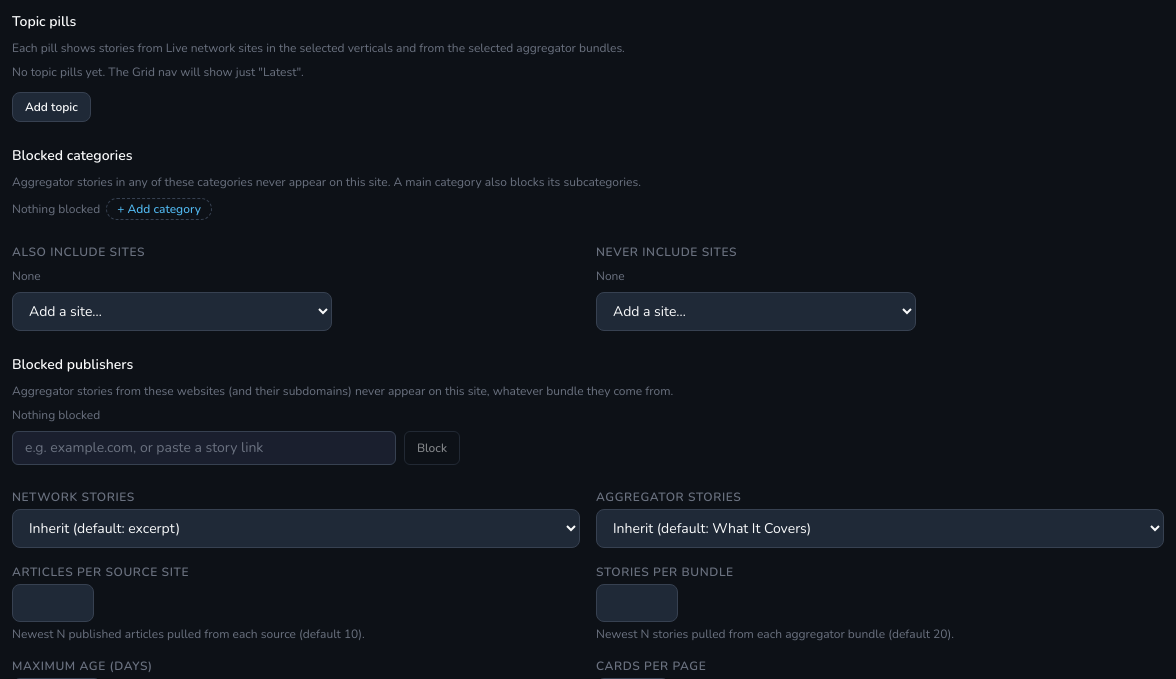
Test: GridSettingsForm — blocked publishers › rejects text that isn't a domain, with a message
Type "not a site" into the field named "Block a publisher" at (204, 448), box [12,431,396,465]
Then press Enter
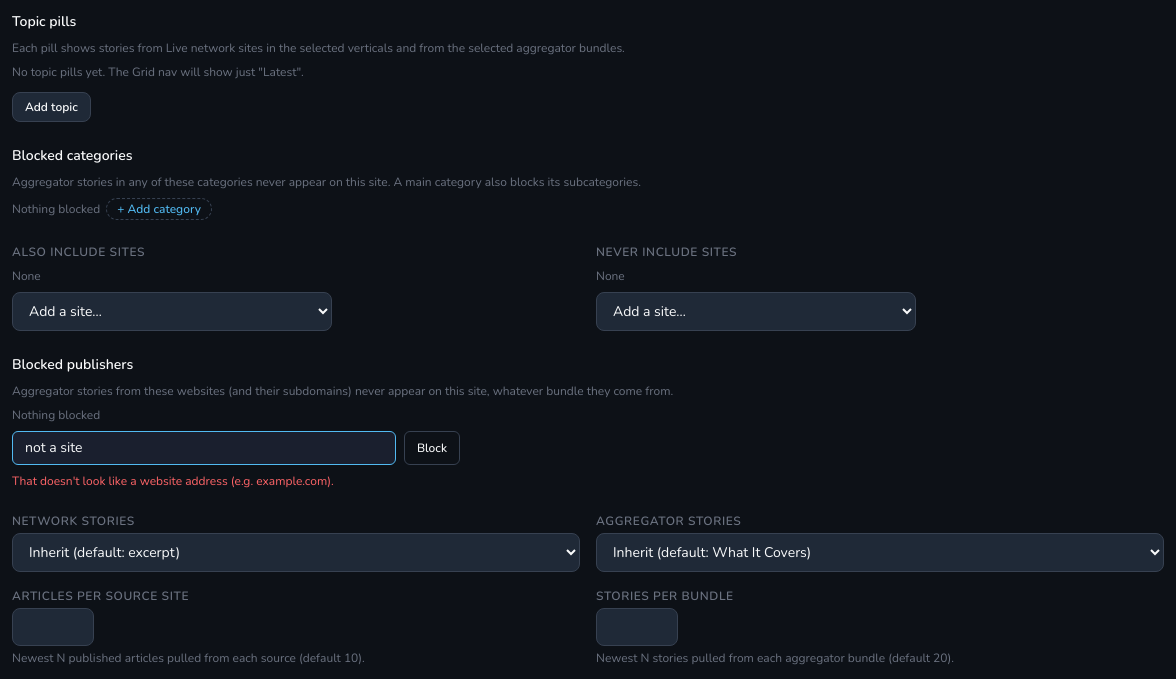
Expected: the text "That doesn't look like a website address (e.g. example.com)." is shown, [12,473,334,489]
